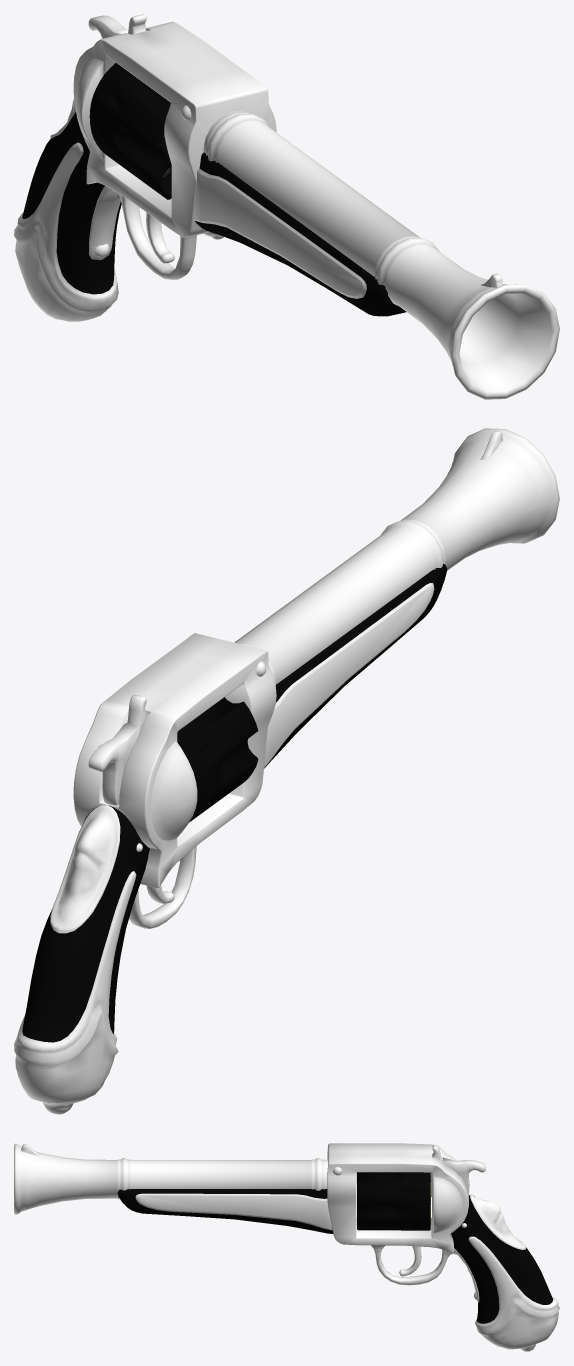
The model's file is Weapons_MagnumFlintlock_LOD0.glb.
3 renders of one model, top to bottom at view 1: azimuth 30°, elevation 25°; view 2: azimuth 150°, elevation 25°; view 3: azimuth 270°, elevation 25°, orthographic. The views are drawn at different scales.
Visible parts, largest first — view 1: Hoodie; view 2: Hoodie; view 3: Hoodie.
Boxes of the visible parts, x1,y1,x2,y2 form: Hoodie: (14, 14, 559, 399); Hoodie: (14, 428, 559, 1114); Hoodie: (14, 1143, 559, 1351).
Bounding box in the file's own units: 0.0571 × 0.1699 × 0.4078.
1 material, 1 textured.
